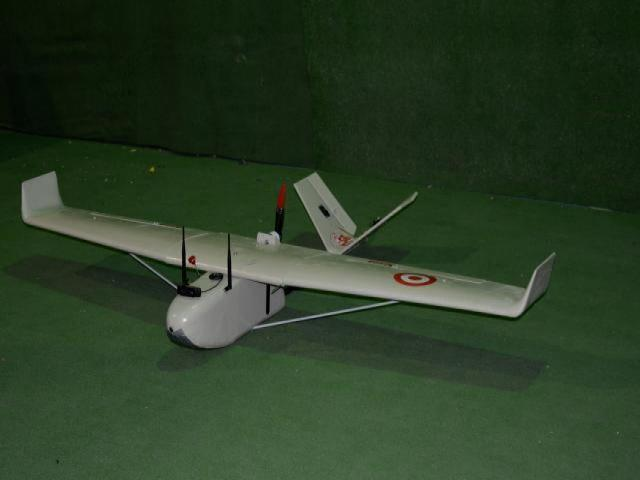iha: (11, 159, 568, 359)
